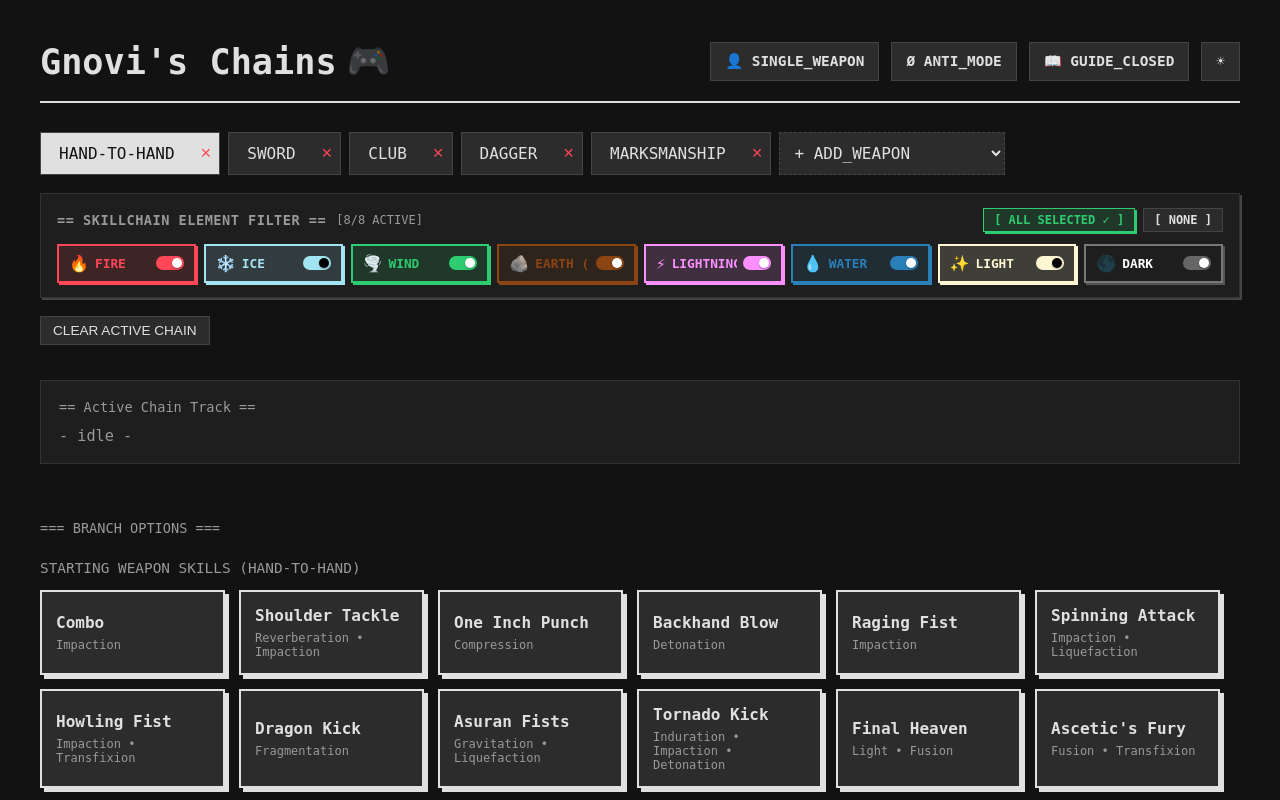
Scenario: Skillchain Element Filter Feature › All button indicates all have been selected and reverts/disappears when element is deselected
Expected: the button "[ ALL SELECTED ✓ ]" is shown, [983,208,1135,232]
What coordinates should you click on to do the following:
click the button titled "Toggle FIRE filter"
I would click on:
 (126, 264)
Its box is [57,244,196,283].
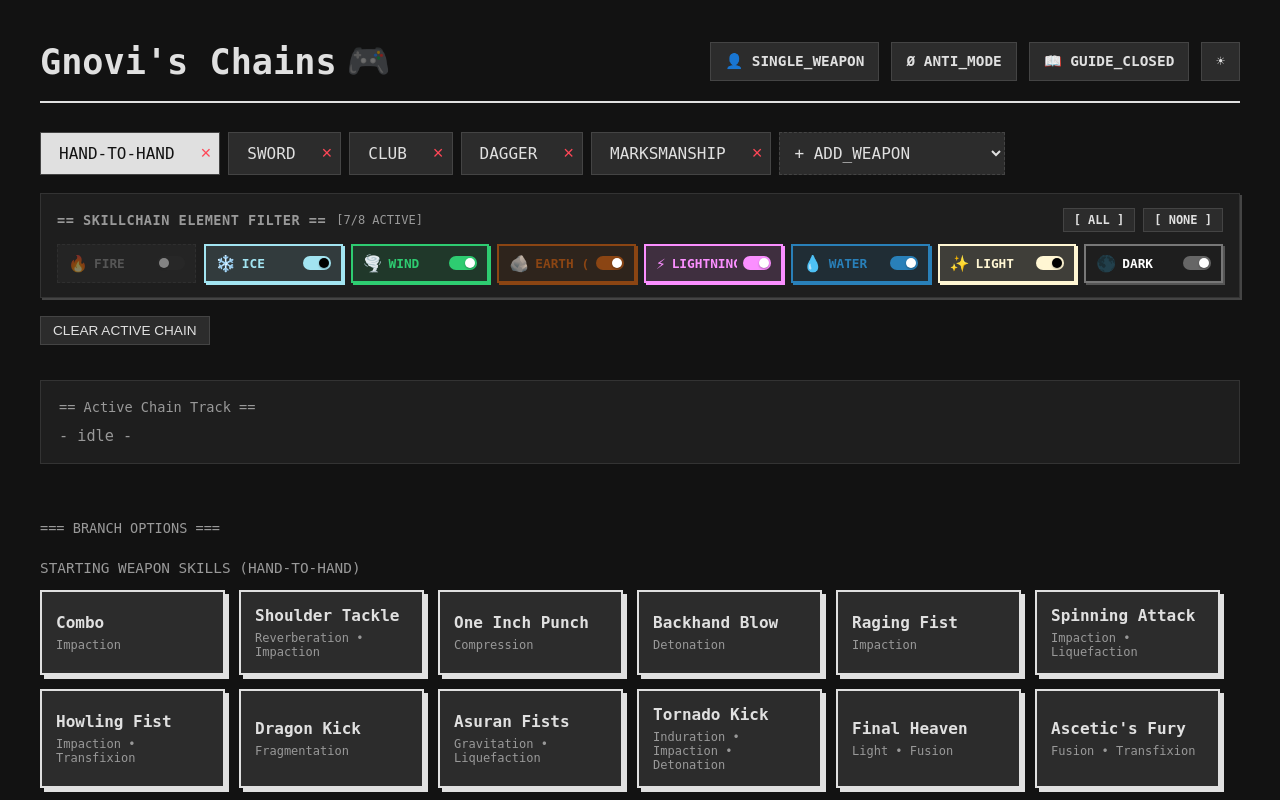
Expected: the button "[ ALL SELECTED ✓ ]" is gone
Expected: the button "[ ALL ]" is shown
// Clicking [ ALL ] re-enables all and restores the [ ALL SELECTED ✓ ] indicator
What coordinates should you click on to do the following:
click the button "[ ALL ]"
I would click on:
 (1099, 220)
Its box is [1063,208,1135,232].
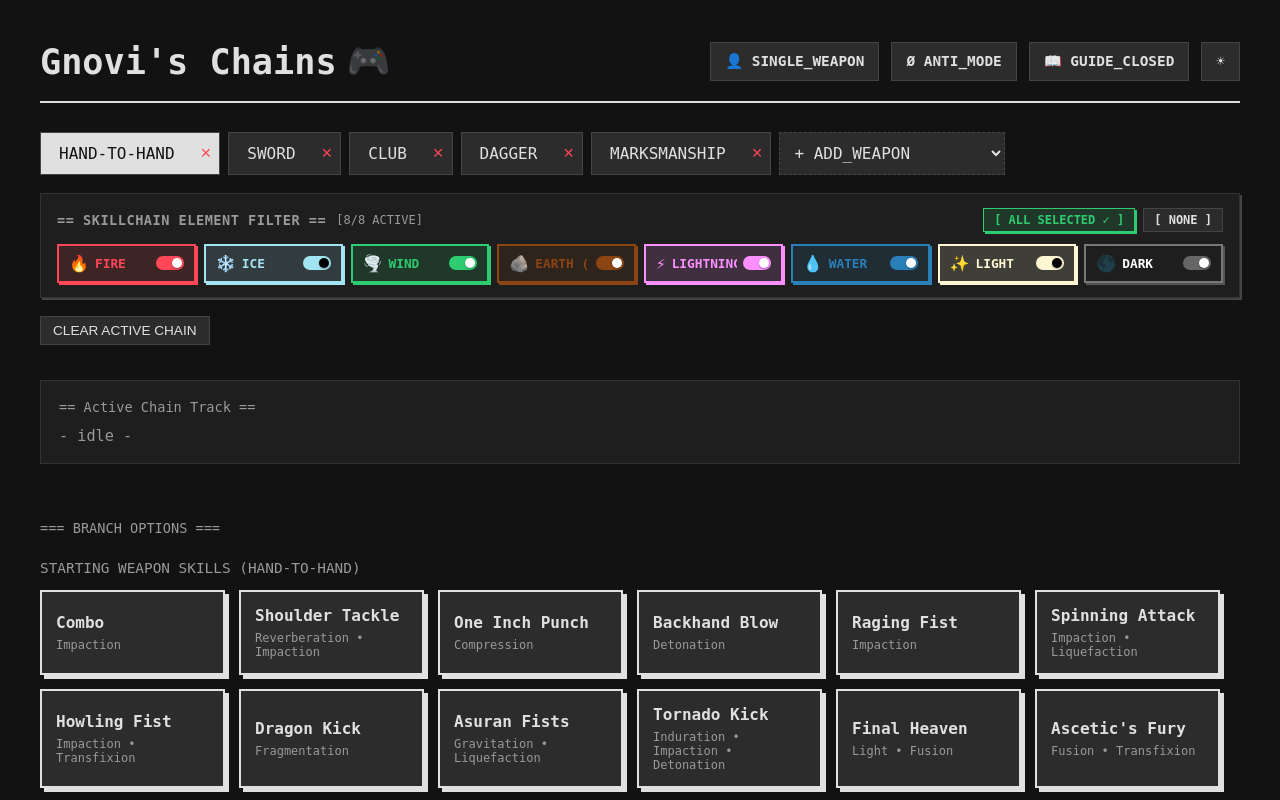
Expected: the button "[ ALL SELECTED ✓ ]" is shown, [983,208,1135,232]
